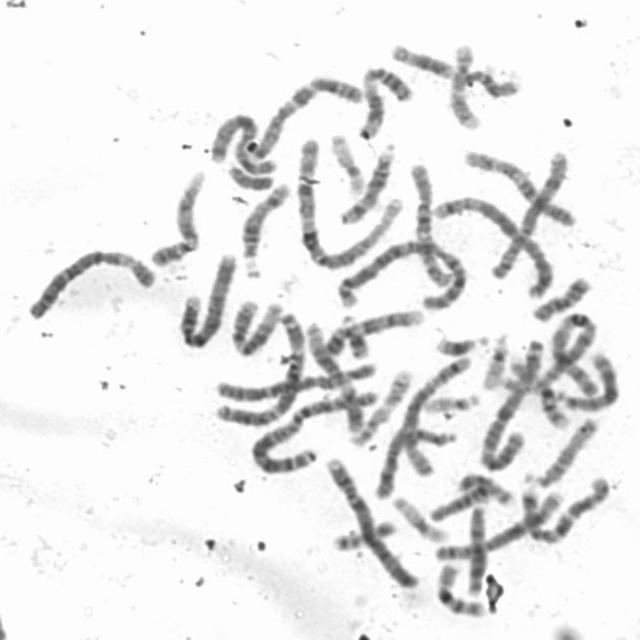A1: (288, 132, 404, 272), (544, 308, 603, 398)
A2: (245, 384, 380, 476), (330, 233, 475, 312)
A3: (210, 304, 306, 431), (476, 334, 549, 474)
B4: (320, 451, 424, 591), (173, 247, 240, 350)
B5: (428, 190, 557, 301), (393, 350, 472, 480)
C10: (458, 144, 578, 229), (405, 159, 452, 290)
C11: (386, 38, 523, 100), (352, 61, 416, 140)
C12: (300, 318, 370, 435), (227, 296, 284, 358)
C6: (21, 243, 160, 321), (211, 358, 381, 404)
C7: (236, 70, 366, 162), (515, 472, 612, 544)
C8: (484, 146, 572, 282), (428, 485, 566, 564)
C9: (145, 166, 209, 268), (319, 304, 428, 358)
D13: (554, 348, 623, 413), (460, 497, 491, 599)
D14: (236, 177, 292, 280), (334, 139, 399, 226)
D15: (528, 413, 601, 490), (374, 431, 458, 497)
E16: (502, 353, 573, 430), (430, 558, 488, 619)
E17: (344, 365, 415, 448), (443, 39, 486, 131)
E18: (529, 271, 595, 323), (425, 480, 494, 523)
F19: (388, 490, 452, 544), (325, 129, 369, 197)
F20: (327, 515, 400, 553), (453, 469, 516, 509)
G21: (337, 311, 372, 361), (430, 330, 491, 358)
G22: (477, 328, 512, 392), (419, 387, 484, 414)
X: (202, 111, 276, 176)
Y: (223, 160, 276, 192)
